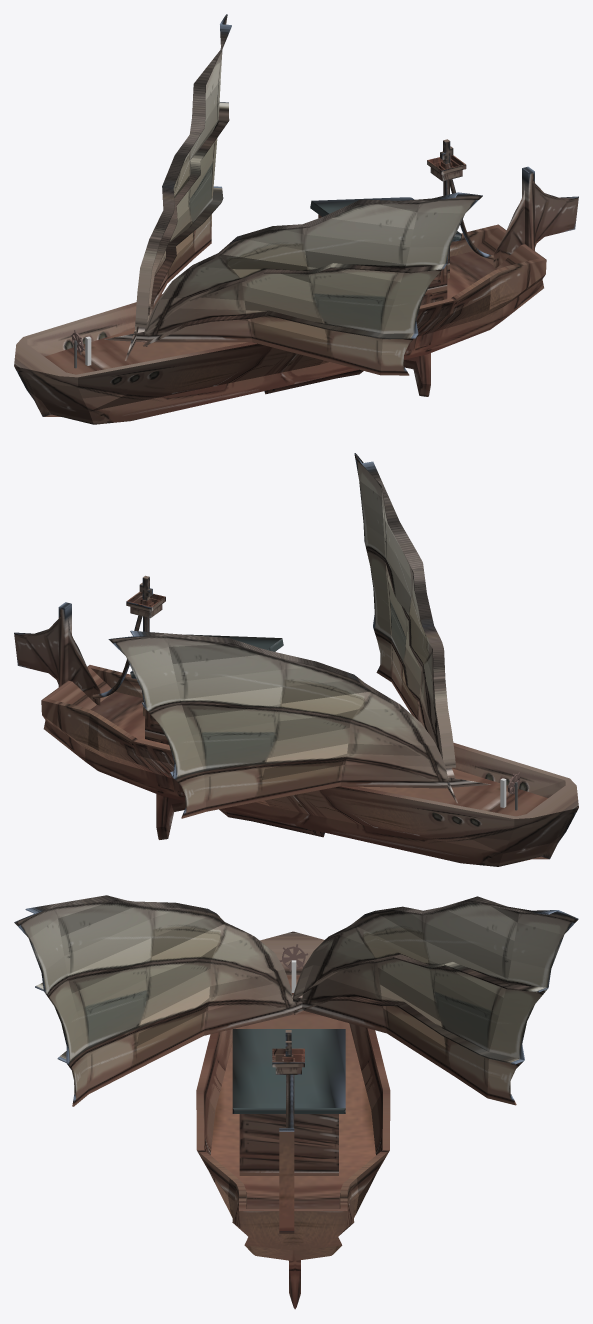
The model's file is BOAT.fbx.
3 renders of one model, top to bottom at view 1: azimuth 30°, elevation 25°; view 2: azimuth 150°, elevation 25°; view 3: azimuth 270°, elevation 25°, orthographic. The views are drawn at different scales.
Visible parts, largest first — view 1: Plane, Cube, Plane.001, Plane.002, Cube.003, Cube.006, Cube.005; view 2: Plane.001, Cube, Plane, Plane.002, Cube.006, Cube.003, Cube.005; view 3: Plane, Plane.001, Cube, Cube.003, Plane.002, Cube.005.
Part boxes in pixels (x1,y1,x2,y2): Plane: [104, 192, 482, 375]; Cube: [14, 224, 546, 424]; Plane.001: [125, 14, 231, 360]; Plane.002: [493, 166, 578, 268]; Cube.003: [310, 197, 461, 305]; Cube.006: [264, 353, 430, 396]; Cube.005: [427, 139, 466, 278]; Plane.001: [108, 630, 490, 818]; Cube: [41, 665, 578, 866]; Plane: [354, 453, 457, 803]; Plane.002: [14, 602, 100, 705]; Cube.006: [156, 794, 324, 839]; Cube.003: [130, 634, 283, 744]; Cube.005: [126, 575, 165, 716]; Plane: [14, 895, 302, 1106]; Plane.001: [292, 896, 578, 1105]; Cube: [196, 931, 390, 1261]; Cube.003: [232, 1029, 345, 1175]; Plane.002: [279, 1128, 294, 1233]; Cube.005: [272, 1030, 304, 1128].
Bounding box in the file's own units: 2981 × 1573 × 2301.
6 materials, 3 textured.
